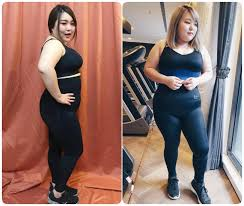people: (147, 6, 212, 206), (41, 4, 85, 206)
